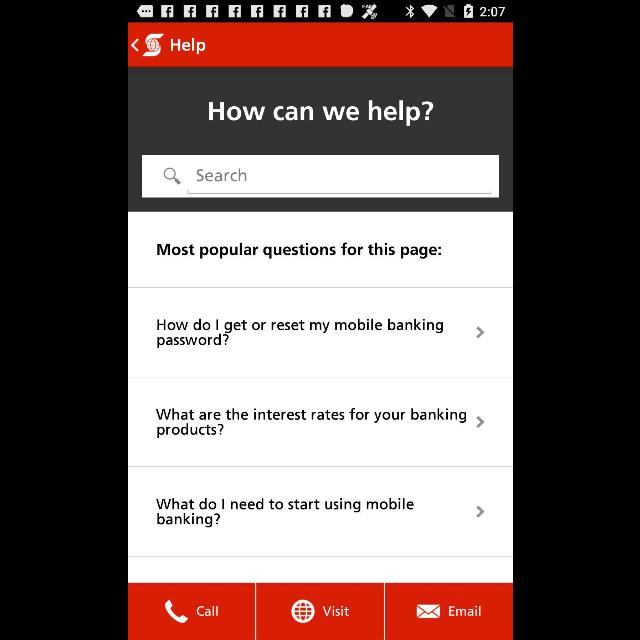icon: (162, 168, 180, 185), (474, 416, 484, 428), (474, 326, 484, 338), (130, 38, 138, 52), (476, 506, 484, 518)
image: (141, 34, 163, 56)
input: (142, 154, 498, 198), (187, 168, 491, 194)
text: (156, 408, 466, 438), (156, 318, 442, 348), (156, 498, 412, 528), (209, 100, 433, 126), (156, 242, 440, 260), (196, 168, 246, 182), (170, 37, 204, 54)
textbutton: (383, 582, 512, 640), (256, 582, 384, 640), (128, 582, 255, 640)
toolbar: (128, 24, 512, 66)
uppertaskbar: (128, 1, 512, 23)
